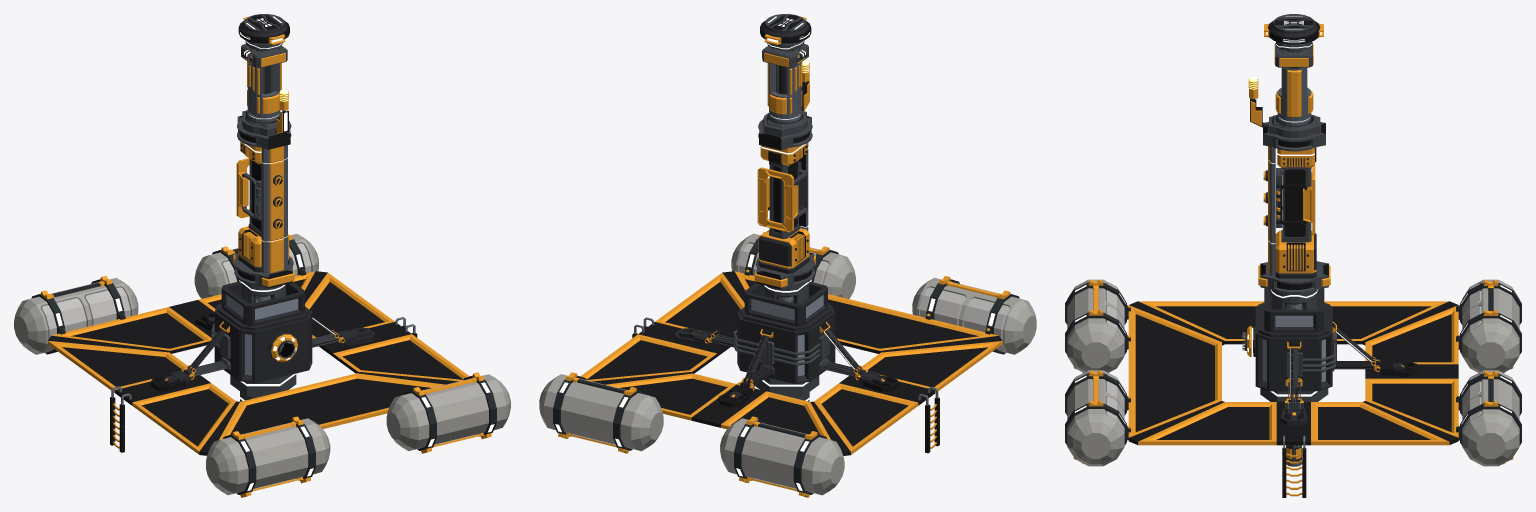
The model's file is Water pump.glb.
3 renders of one model, left to right at view 1: azimuth 30°, elevation 25°; view 2: azimuth 150°, elevation 25°; view 3: azimuth 270°, elevation 25°, orthographic. The views are drawn at different scales.
Visible parts, largest first — view 1: Water pump, SM_Pump; view 2: Water pump, SM_Pump; view 3: Water pump, SM_Pump.
Boxes of the visible parts, left/top/right/bottom form: Water pump: left=14, top=61, right=510, bottom=497; SM_Pump: left=238, top=14, right=289, bottom=93; Water pump: left=539, top=60, right=1036, bottom=497; SM_Pump: left=760, top=14, right=811, bottom=94; Water pump: left=1065, top=67, right=1521, bottom=497; SM_Pump: left=1264, top=14, right=1323, bottom=67.
Size of the model in its own units: 13.72 by 19 by 17.84.
Materials: 3 (1 with a texture image).
